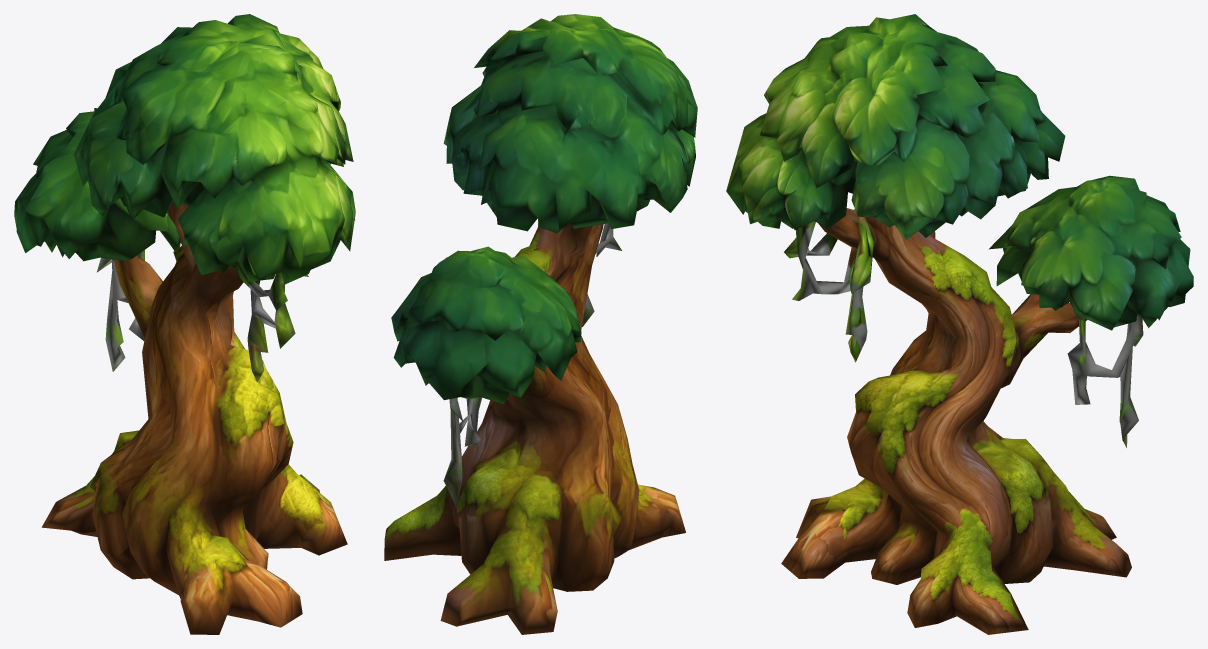
The model's file is W_Tree_C3k_raw.glb.
3 renders of one model, left to right at view 1: azimuth 30°, elevation 25°; view 2: azimuth 150°, elevation 25°; view 3: azimuth 270°, elevation 25°, orthographic. The views are drawn at different scales.
Visible parts, largest first — view 1: tripo_node_1acbd73c-105b-428d-8ee4-681aa8328a00; view 2: tripo_node_1acbd73c-105b-428d-8ee4-681aa8328a00; view 3: tripo_node_1acbd73c-105b-428d-8ee4-681aa8328a00.
Part boxes in pixels (<box>): tripo_node_1acbd73c-105b-428d-8ee4-681aa8328a00: <box>14,14,355,634</box>; tripo_node_1acbd73c-105b-428d-8ee4-681aa8328a00: <box>384,14,697,634</box>; tripo_node_1acbd73c-105b-428d-8ee4-681aa8328a00: <box>726,14,1193,634</box>.
Size of the model in its own units: 0.5043 by 1 by 0.7822.
Materials: 1 (1 with a texture image).
